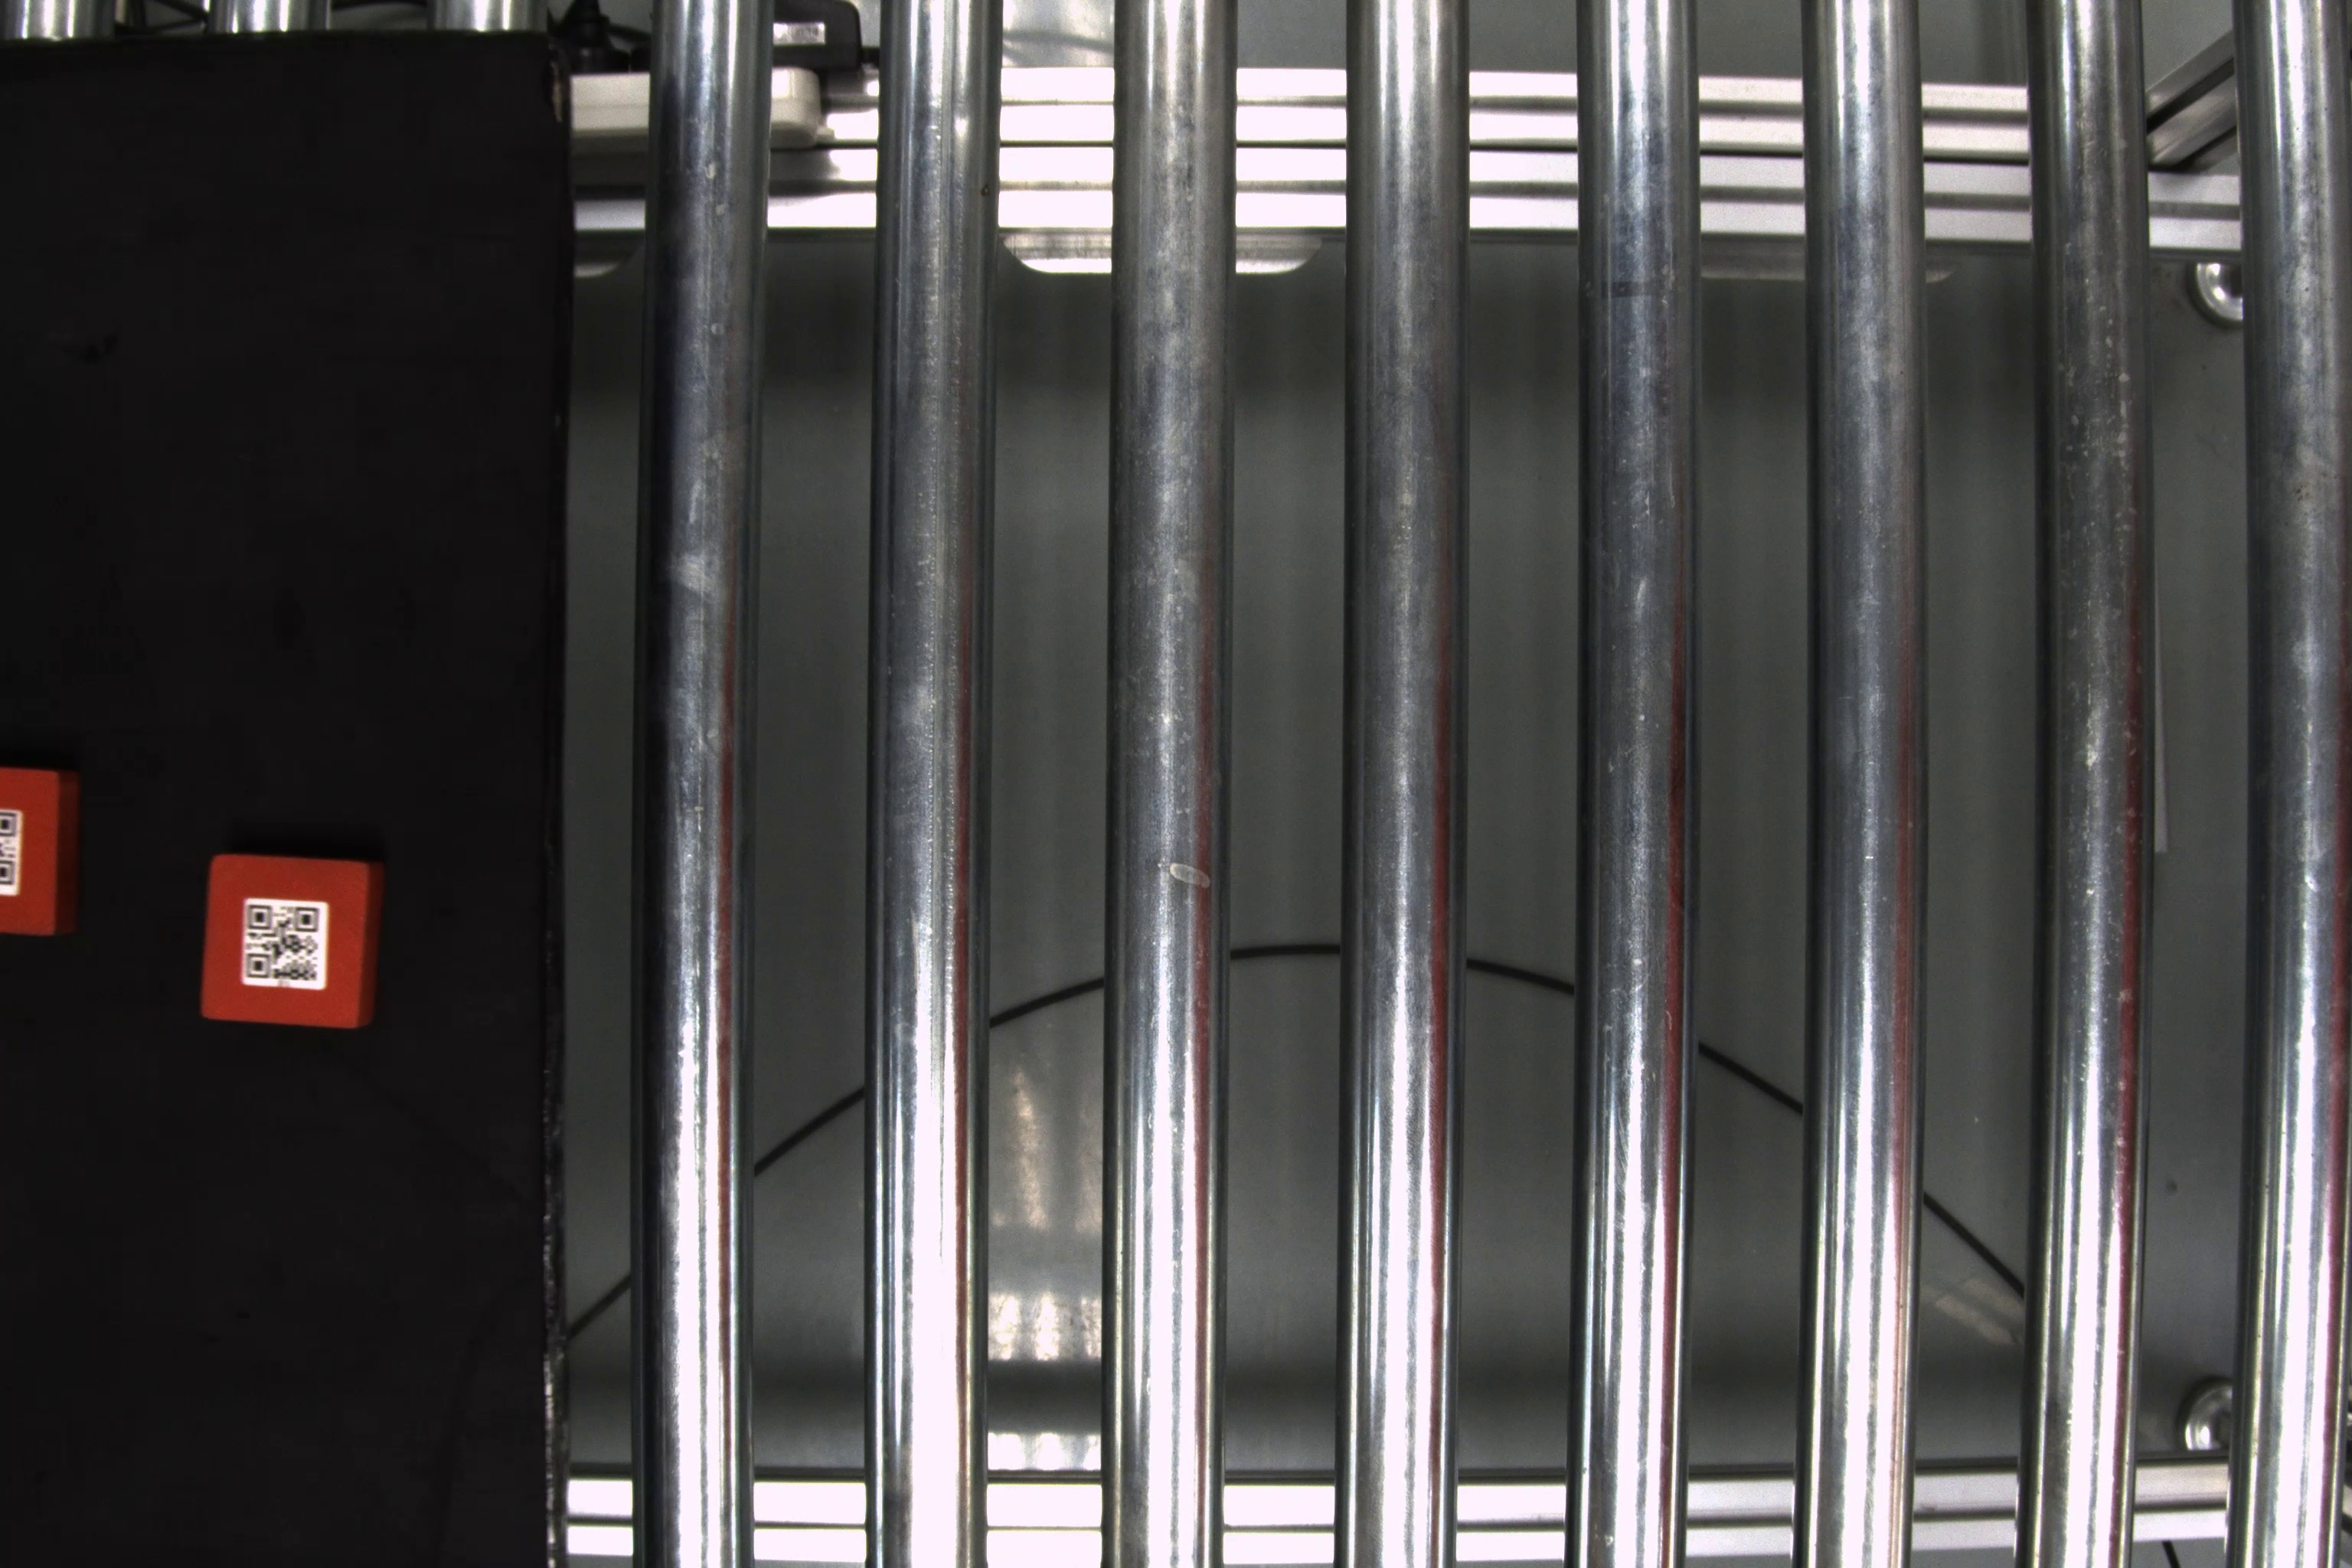wood: (199, 847, 390, 1031), (2, 754, 86, 941)
